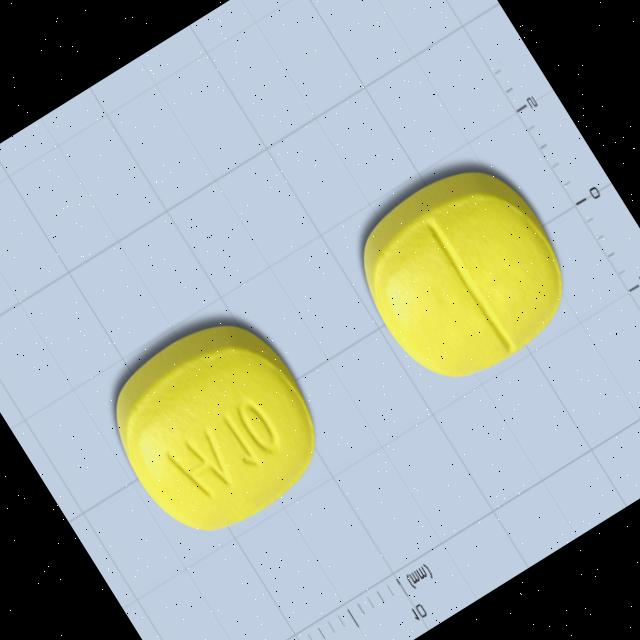Clarid - 500mg: (328, 136, 599, 408), (79, 286, 348, 560)
